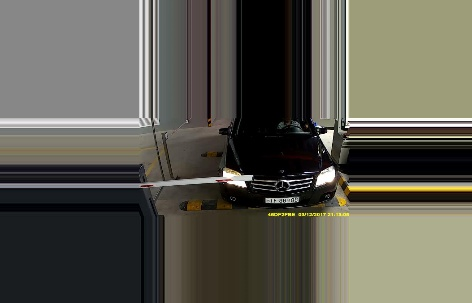plate: (264, 195, 300, 204)
